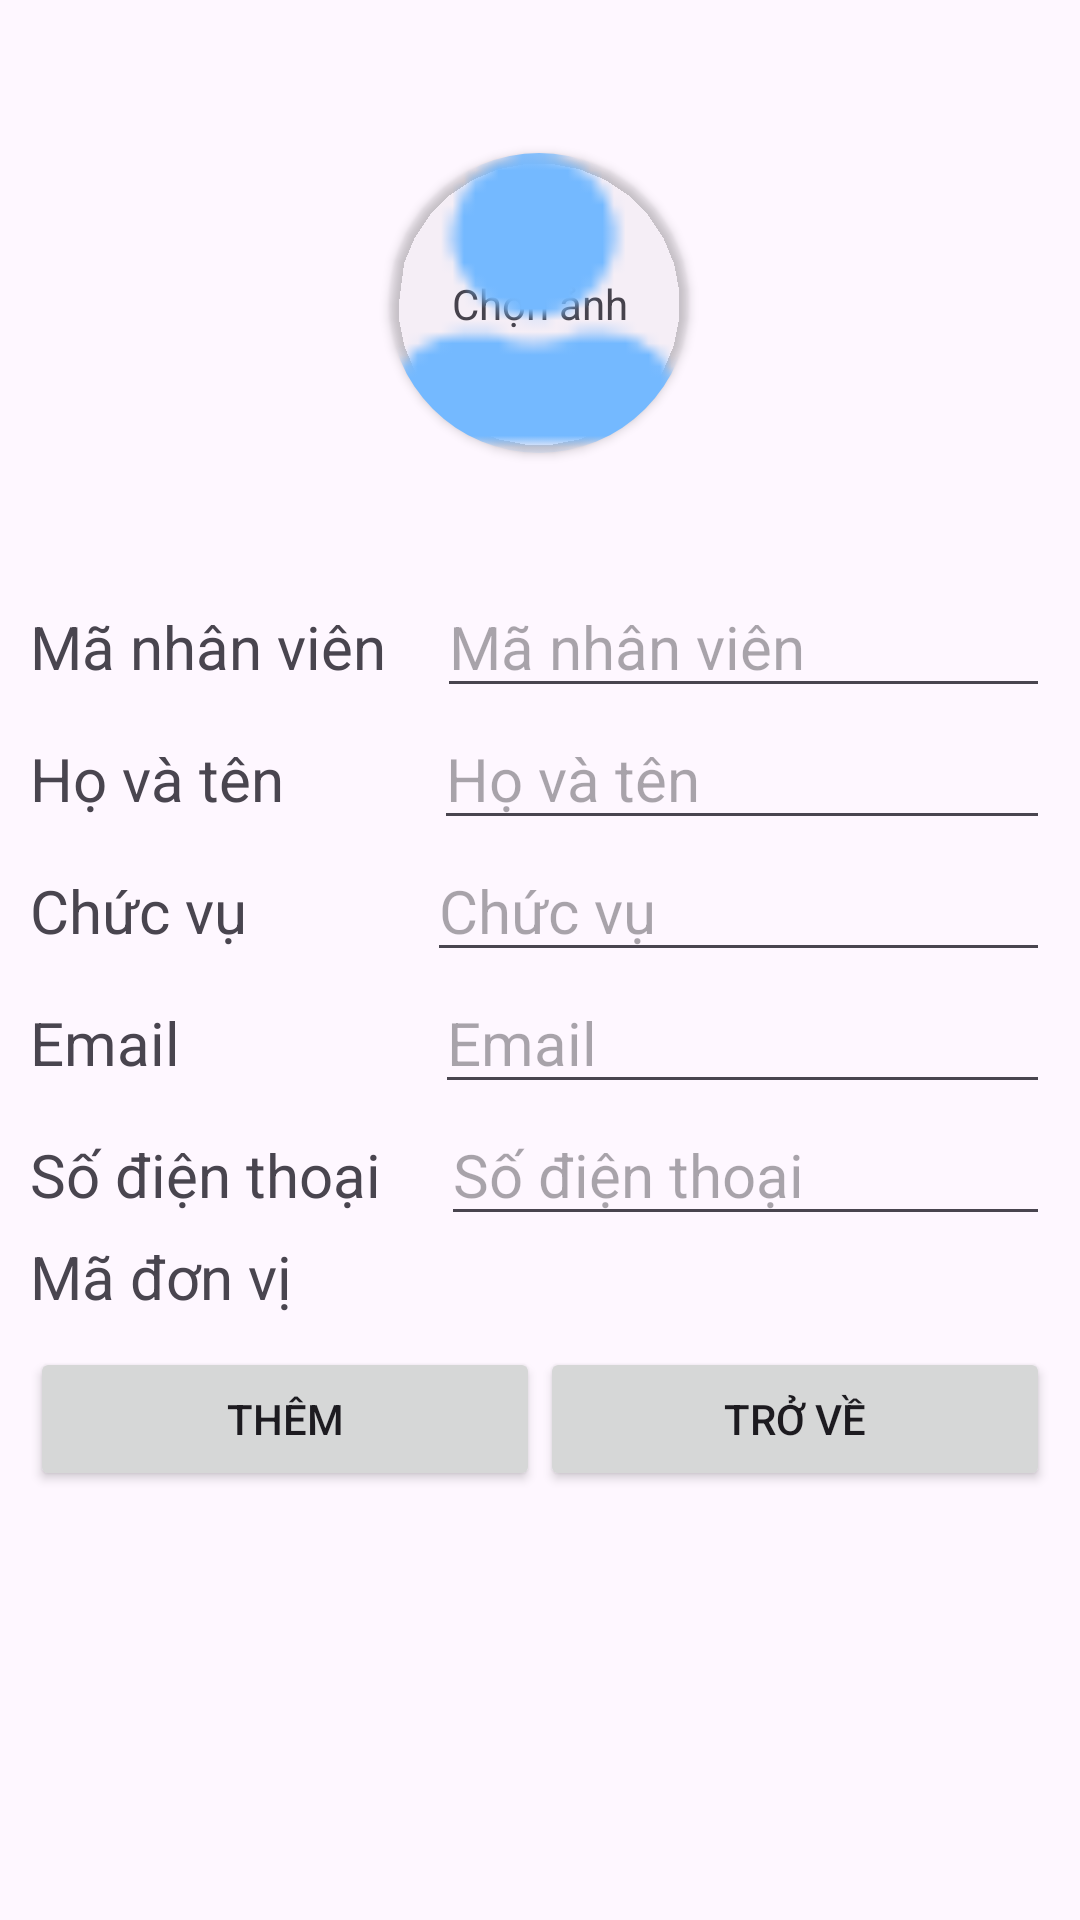

Point at icon controls on the screen. Image size 1080*1920, points as (x,y).
user: (539,303)
